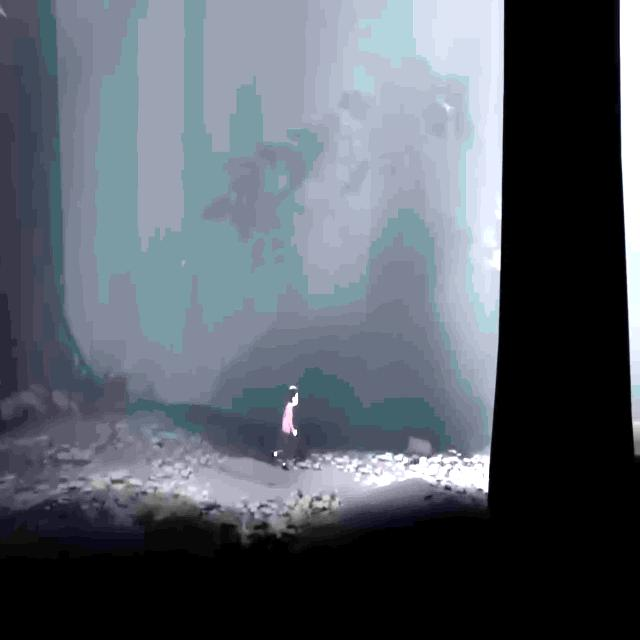boy: (272, 385, 298, 470)
